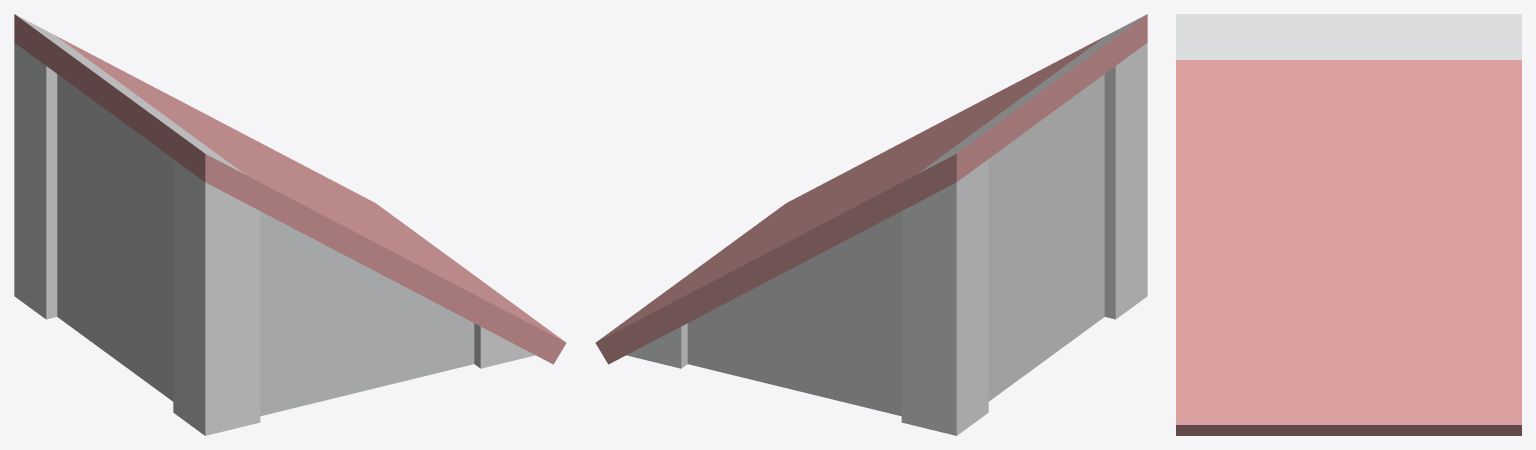
File: Roof_Slant_Red_01.glb
3 renders of one model, left to right at view 1: azimuth 30°, elevation 25°; view 2: azimuth 150°, elevation 25°; view 3: azimuth 270°, elevation 25°, orthographic. The views are drawn at different scales.
Parts seen in each view (by area): view 1: Mesh1 Roof_Slant_Red Model; view 2: Mesh1 Roof_Slant_Red Model; view 3: Mesh1 Roof_Slant_Red Model.
Part boxes in pixels (<box>): Mesh1 Roof_Slant_Red Model: <box>14,14,566,435</box>; Mesh1 Roof_Slant_Red Model: <box>595,14,1147,435</box>; Mesh1 Roof_Slant_Red Model: <box>1176,14,1521,435</box>.
Size of the model in its own units: 3.28 by 2.57 by 3.
